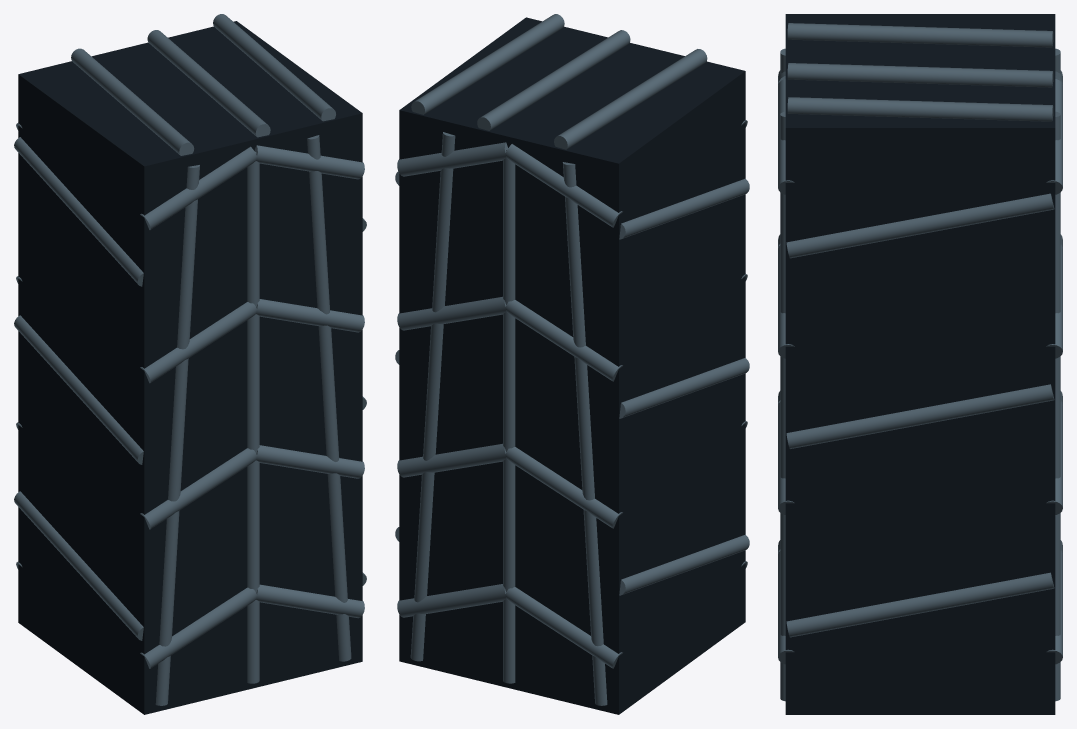
File: CMU3DHiveWallXenoResin.glb
3 renders of one model, left to right at view 1: azimuth 30°, elevation 25°; view 2: azimuth 150°, elevation 25°; view 3: azimuth 270°, elevation 25°, orthographic. The views are drawn at different scales.
Visible parts, largest first — view 1: continuous sealed resin core, vertical exoskeletal rib (×3), front and rear sweeping rib (×8), roof rib (×3), finished side rib (×3); view 2: continuous sealed resin core, vertical exoskeletal rib (×3), front and rear sweeping rib (×8), roof rib (×3), finished side rib (×3); view 3: continuous sealed resin core, roof rib (×3), finished side rib (×3), vertical exoskeletal rib (×2), front and rear sweeping rib (×8).
Part boxes in pixels (x1,y1,x2,y2): continuous sealed resin core: (18,21,362,714); vertical exoskeletal rib (×3): (155,135,351,705); front and rear sweeping rib (×8): (140,145,364,668); roof rib (×3): (71,14,335,155); finished side rib (×3): (14,137,143,640); continuous sealed resin core: (399,17,745,714); vertical exoskeletal rib (×3): (410,132,607,705); front and rear sweeping rib (×8): (397,142,622,668); roof rib (×3): (411,14,707,149); finished side rib (×3): (619,179,749,595); continuous sealed resin core: (785,14,1055,714); roof rib (×3): (787,23,1053,121); finished side rib (×3): (786,193,1054,637); vertical exoskeletal rib (×2): (780,111,1060,701); front and rear sweeping rib (×8): (778,79,1062,664).
Bounding box in the file's own units: 1.05 × 2.45 × 1.06.
